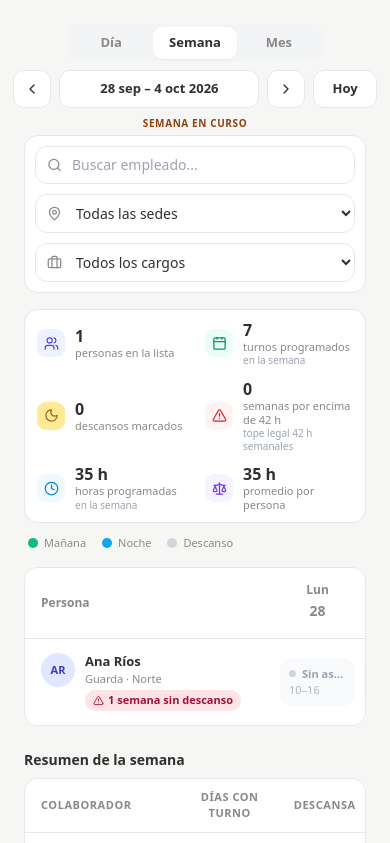
Test: llegar a la rotación › abre la ventana con el nombre de quien es
The image size is (390, 843).
Click the button with aria-label "marcar la semana de Ana Ríos". click: (150, 682)
box: [41,653,260,711]
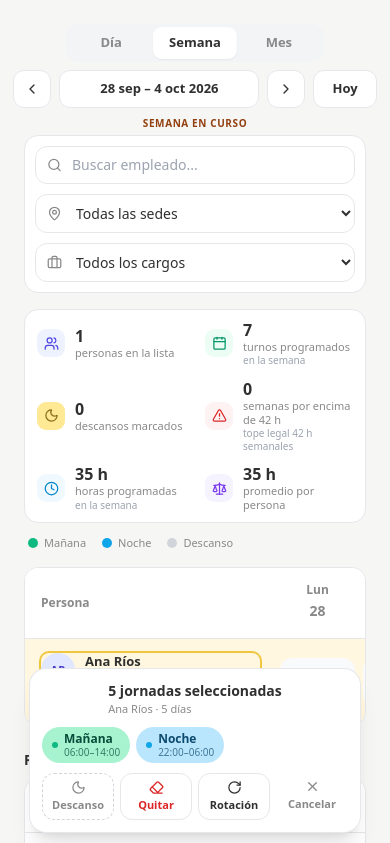
Click the button "Rotación". click: (234, 796)
box: [198,772,270,820]
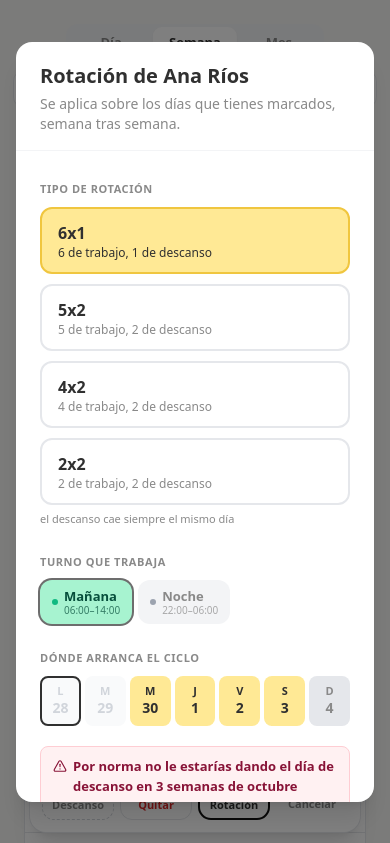
Expected: the dialog "Rotación de" shows "Rotación de Ana Ríos"
